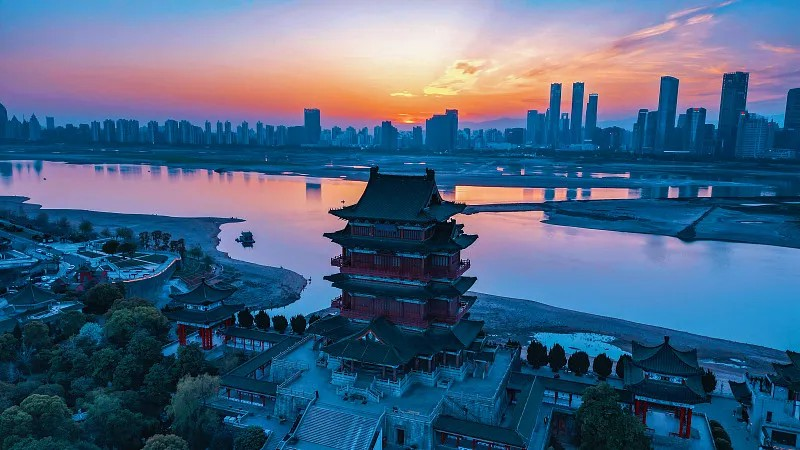Teng: (323, 167, 485, 365)
